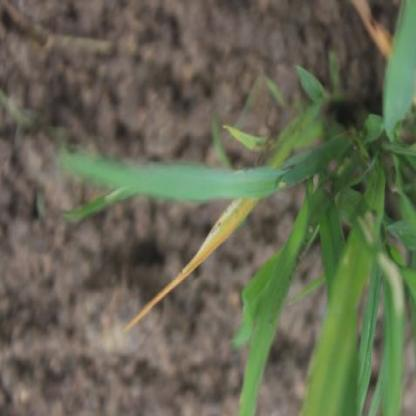Tungro: (137, 199, 261, 326)
